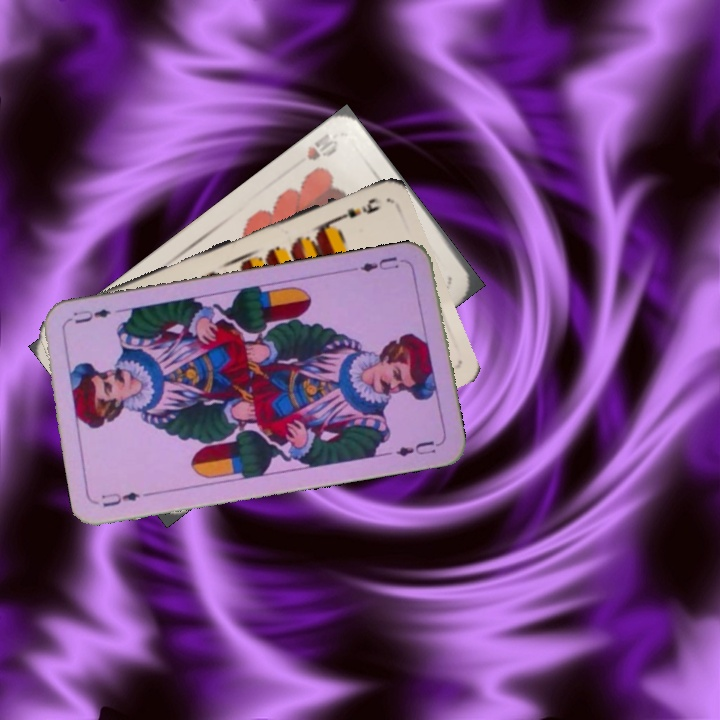E9: (329, 193, 383, 226)
EU: (350, 252, 409, 275), (97, 488, 142, 510)
H10: (302, 129, 341, 164)
